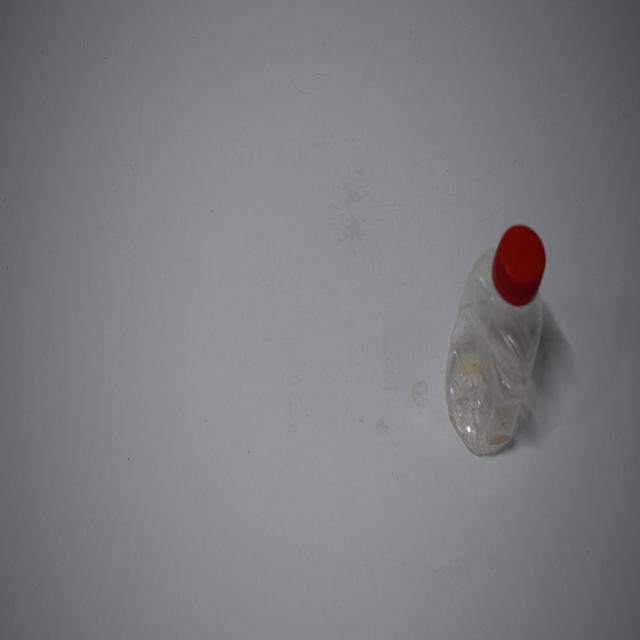bottle: (440, 214, 561, 469)
